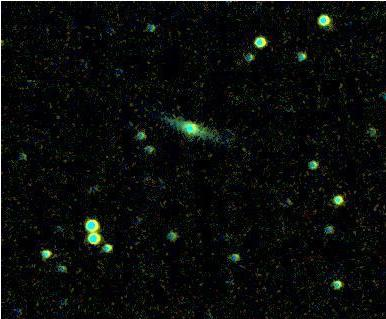star: (229, 132, 259, 162)
